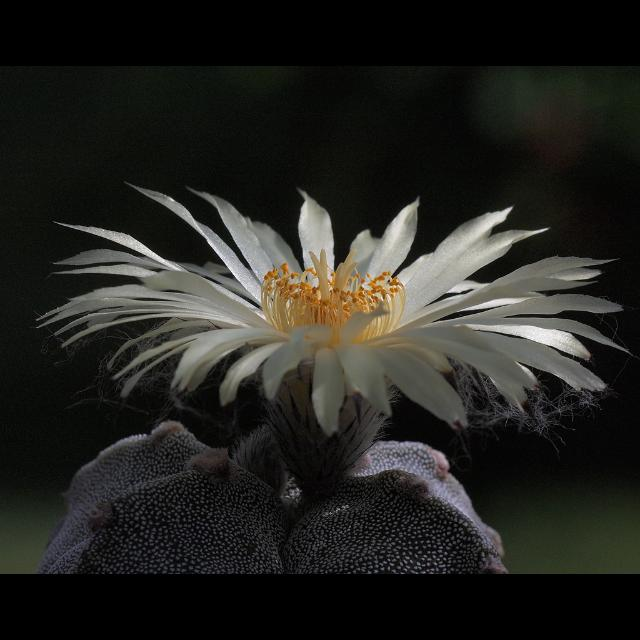Flower: (23, 166, 579, 524)
